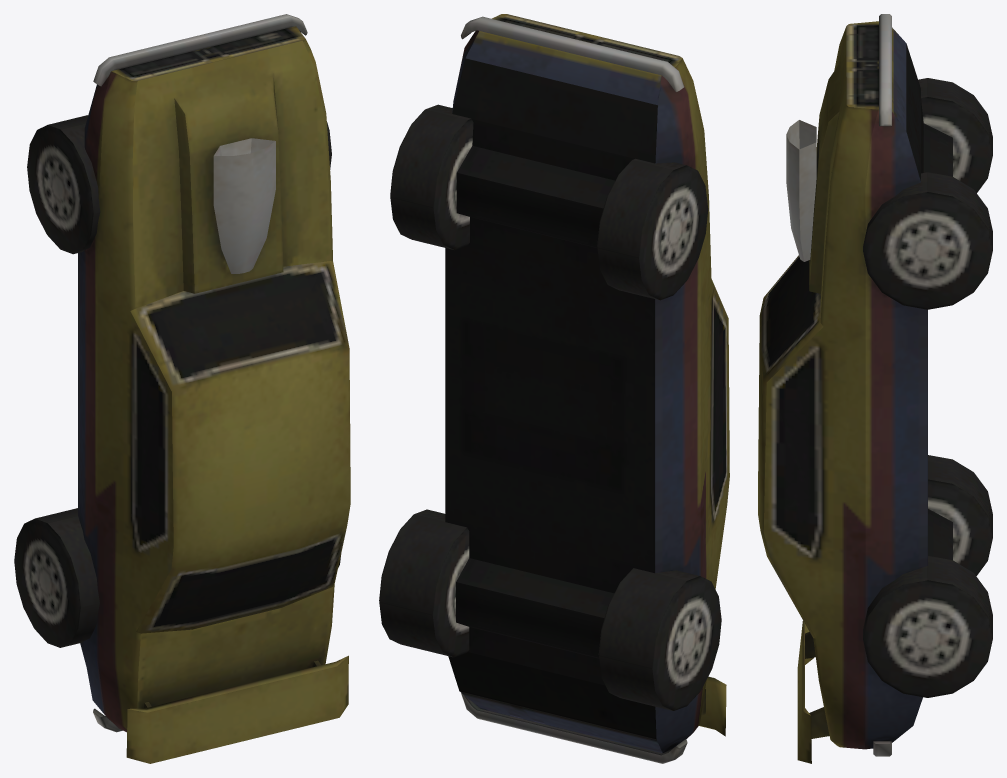
File: com_toy_car_01_LOD0.obj
3 renders of one model, left to right at view 1: azimuth 30°, elevation 25°; view 2: azimuth 150°, elevation 25°; view 3: azimuth 270°, elevation 25°, orthographic. The views are drawn at different scales.
Visible parts, largest first — view 1: mtl_toy_car_01; view 2: mtl_toy_car_01; view 3: mtl_toy_car_01.
Part boxes in pixels (x1,y1,x2,y2): mtl_toy_car_01: (14,14,350,763); mtl_toy_car_01: (379,14,729,763); mtl_toy_car_01: (758,14,992,763).
Size of the model in its own units: 16.15 by 38.97 by 12.6.
